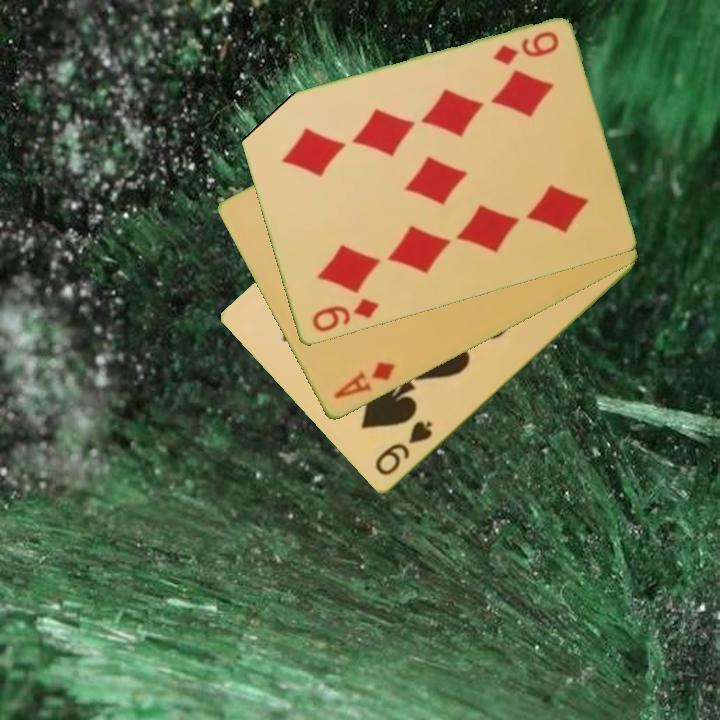9d: (308, 295, 382, 336), (489, 28, 562, 69)
9s: (371, 417, 436, 479)
Ad: (330, 358, 398, 403)
